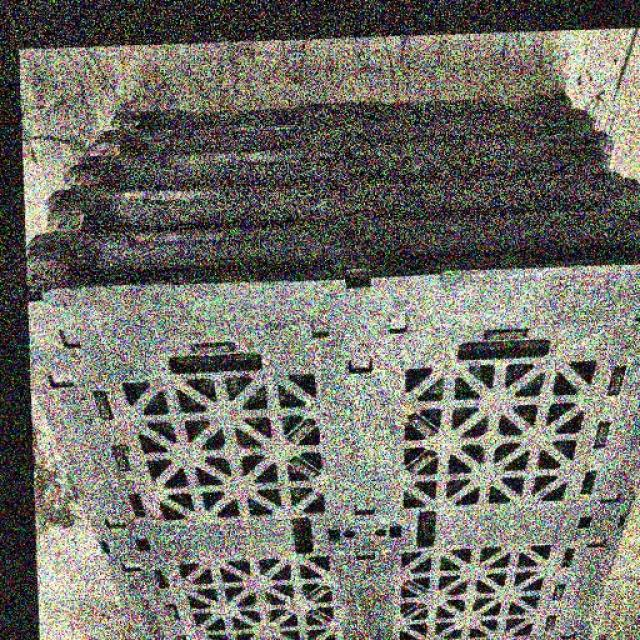igps: (20, 56, 640, 640)
